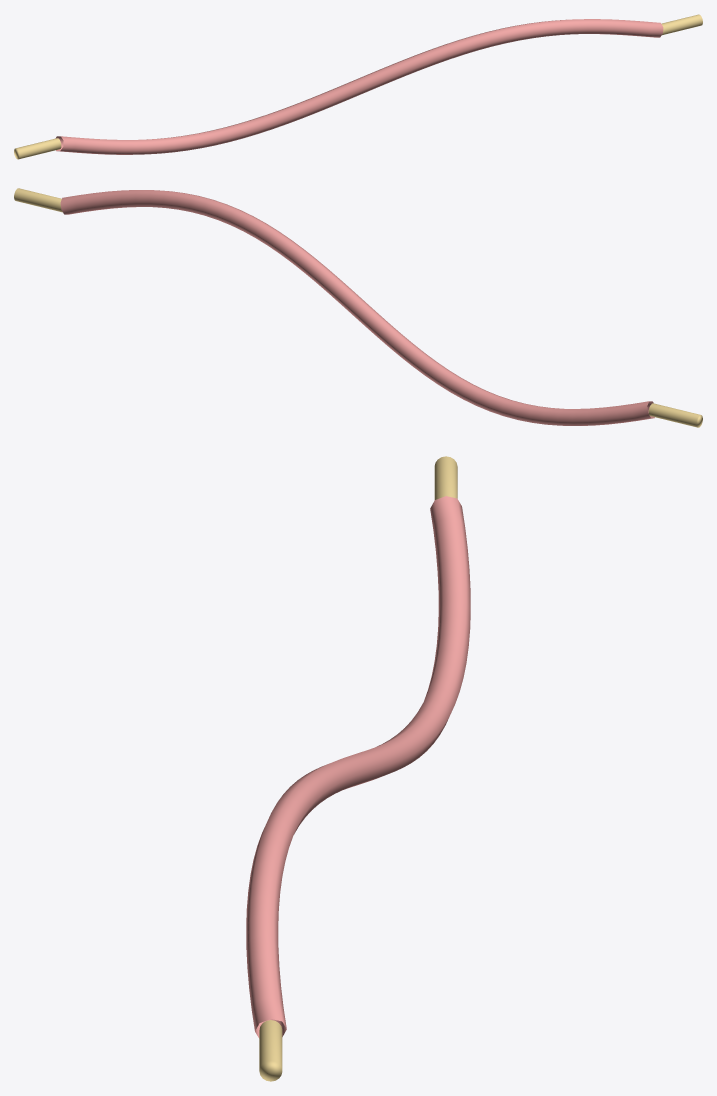
The model's file is wire.glb.
3 renders of one model, top to bottom at view 1: azimuth 30°, elevation 25°; view 2: azimuth 150°, elevation 25°; view 3: azimuth 270°, elevation 25°, orthographic. The views are drawn at different scales.
Parts seen in each view (by area): view 1: insulated_wire, left_terminal, right_terminal; view 2: insulated_wire, left_terminal, right_terminal; view 3: insulated_wire, right_terminal, left_terminal.
Part boxes in pixels (bbox=[...]): insulated_wire: bbox=[55, 19, 663, 154]; left_terminal: bbox=[14, 138, 61, 159]; right_terminal: bbox=[661, 14, 702, 35]; insulated_wire: bbox=[60, 190, 654, 425]; left_terminal: bbox=[648, 403, 702, 427]; right_terminal: bbox=[14, 188, 62, 212]; insulated_wire: bbox=[246, 496, 470, 1038]; right_terminal: bbox=[259, 1020, 282, 1081]; left_terminal: bbox=[434, 456, 457, 499].
Bounding box in the file's own units: 2.3 × 0.2895 × 0.3499.
